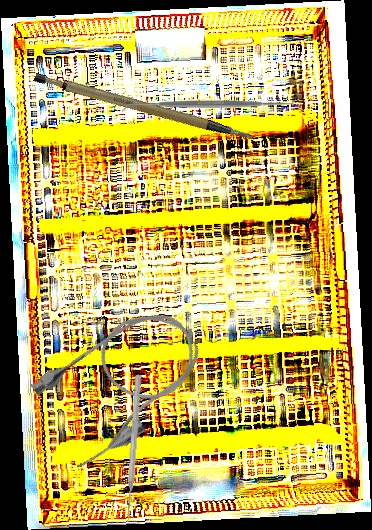Cannula: (21, 291, 221, 477)
Pusher: (123, 374, 143, 523)
Scalpel Handle: (31, 44, 255, 175)
Spatula Surgical: (122, 95, 296, 114)
